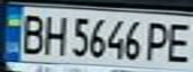4: (106, 16, 127, 61)
5: (66, 14, 90, 58)
6: (124, 17, 148, 62), (87, 15, 109, 60)
B: (15, 10, 48, 55)
E: (160, 19, 193, 64)
H: (39, 11, 69, 56)
P: (142, 18, 175, 63)
